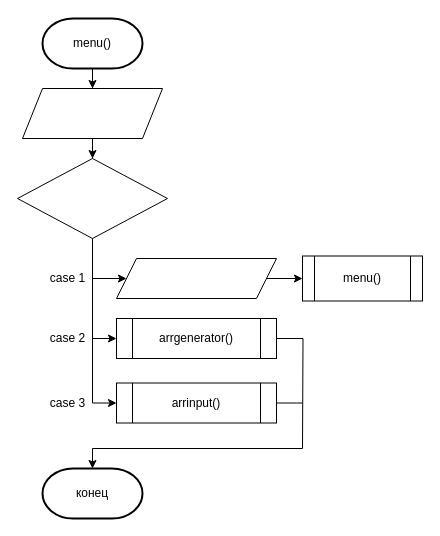
Image size: 440x536. Some labels were removed from this diagram. Each missing label, with the centre of its shape:
"switch (point)" belongs at pixel 92 198.
"Ввод collumns, rows" belongs at pixel 196 278.
"Ввод point" belongs at pixel 92 113.
